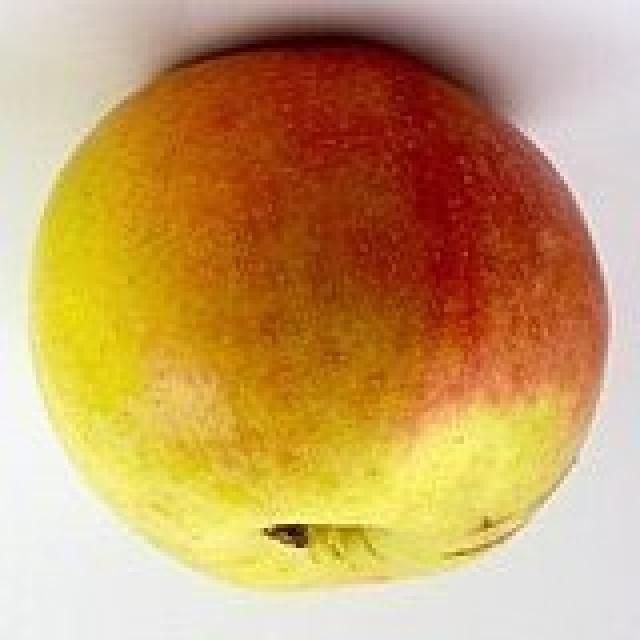75-_ripeness: (33, 40, 606, 585)
